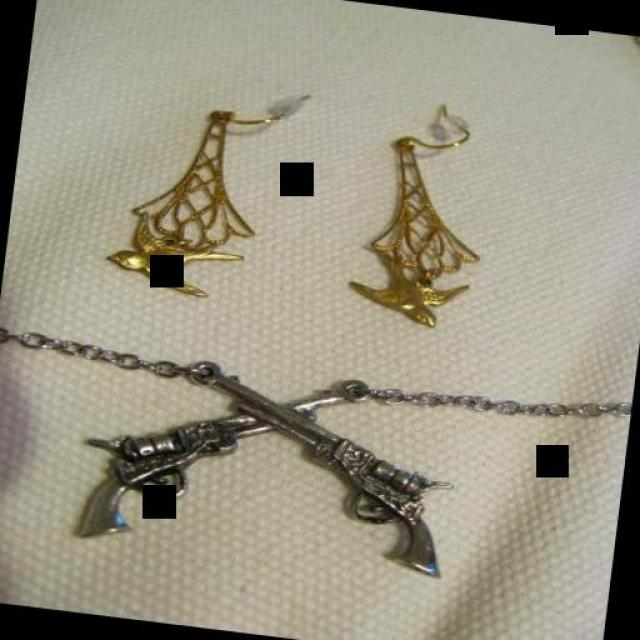gun: (62, 334, 352, 574), (168, 351, 466, 581)
